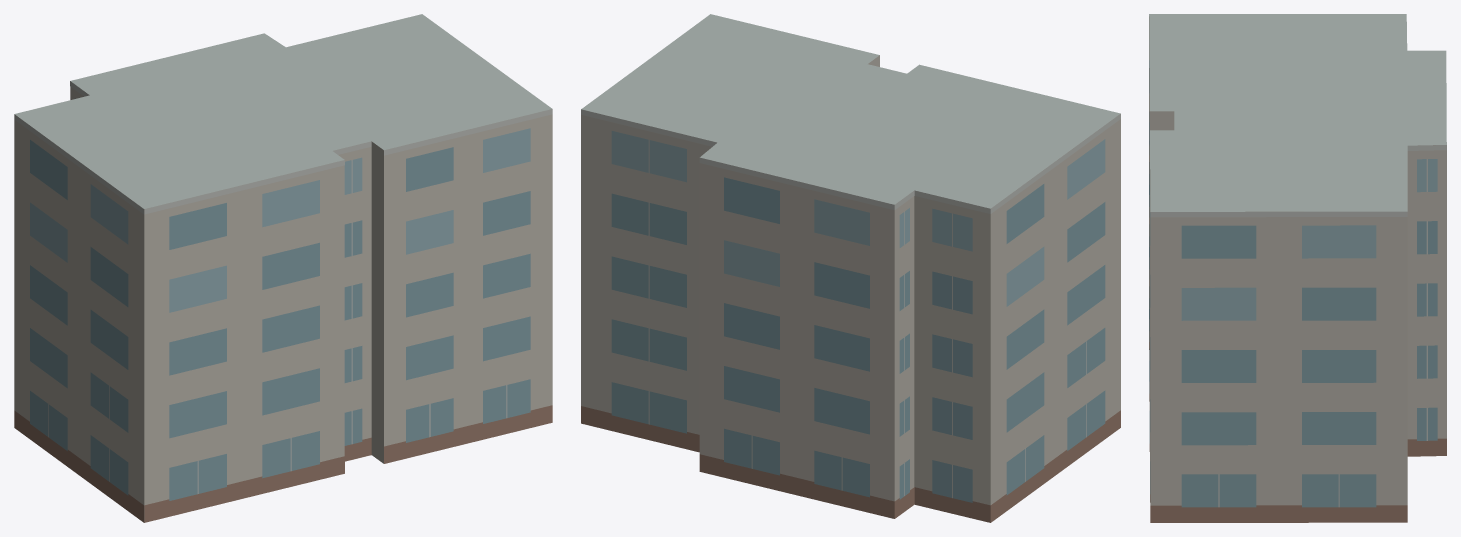
The model's file is survey-upis-32826690.glb.
3 views of the same model, side by side, from view 1: azimuth 30°, elevation 25°; view 2: azimuth 150°, elevation 25°; view 3: azimuth 270°, elevation 25° (orthographic).
Parts seen in each view (by area): view 1: survey-upis-32826690.tmp; view 2: survey-upis-32826690.tmp; view 3: survey-upis-32826690.tmp.
Boxes of the visible parts, x1=… form: survey-upis-32826690.tmp: x1=14, y1=14, x2=552, y2=522; survey-upis-32826690.tmp: x1=581, y1=14, x2=1120, y2=522; survey-upis-32826690.tmp: x1=1149, y1=14, x2=1446, y2=522.
Bounding box in the file's own units: 19.25 × 14.1 × 12.24.
